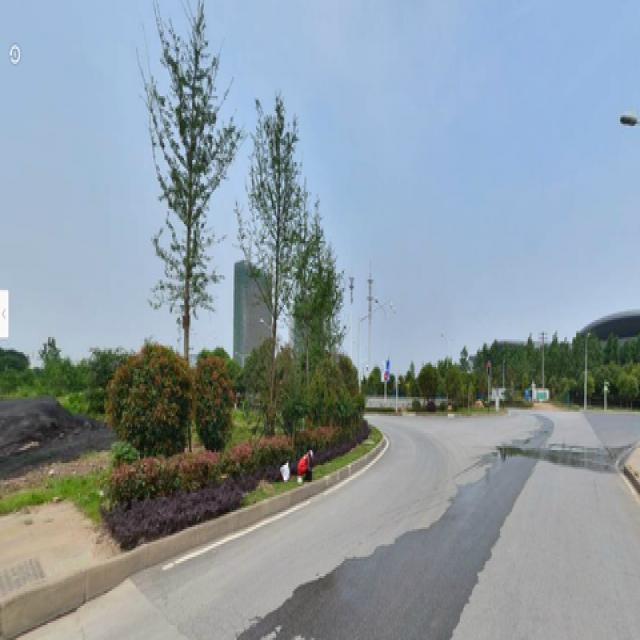gink: (150, 21, 213, 418), (246, 111, 294, 418)
